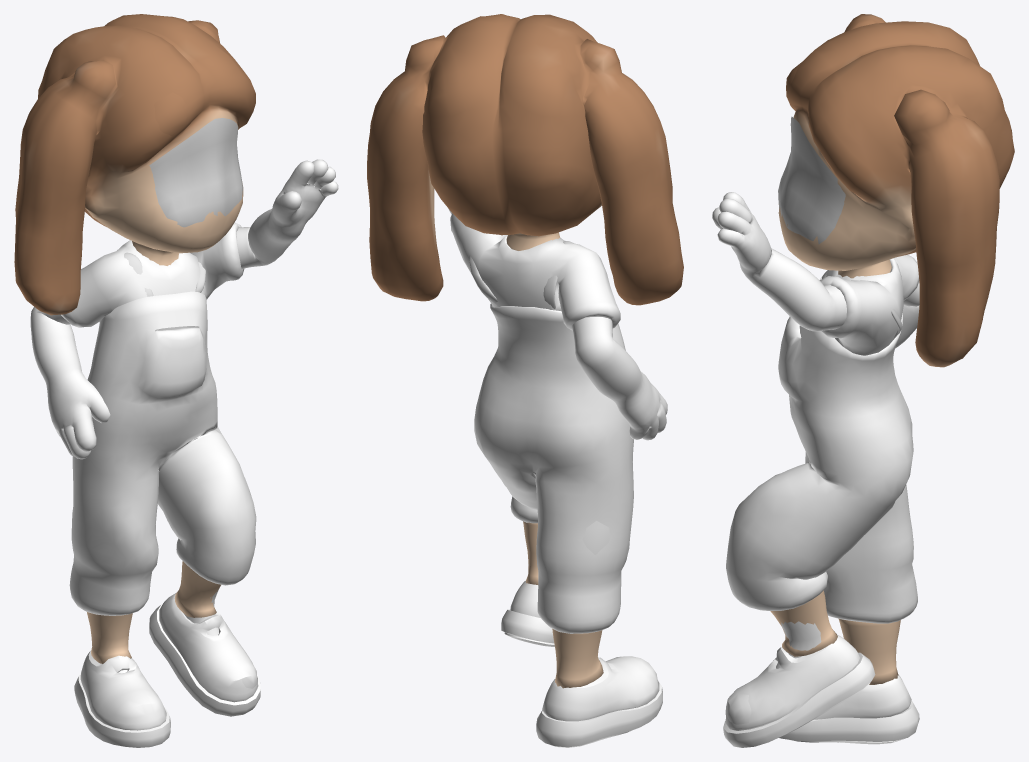
The model's file is Robin Pose.fbx.
The picture shows the model from 3 angles, left to right: view 1: azimuth 30°, elevation 25°; view 2: azimuth 150°, elevation 25°; view 3: azimuth 270°, elevation 25°; orthographic projection. The views are drawn at different scales.
Visible parts, largest first — view 1: Head, Trousers, Shoes, Arms, Shirt, Face; view 2: Head, Trousers, Shoes, Shirt, Arms, Straps; view 3: Head, Trousers, Shoes, Arms, Shirt, Face, Socks.
Boxes of the visible parts, x1=… form: Head: x1=14, y1=14, x2=255, y2=663; Trousers: x1=69, y1=291, x2=256, y2=615; Shoes: x1=74, y1=592, x2=260, y2=747; Arms: x1=30, y1=159, x2=338, y2=459; Shirt: x1=61, y1=222, x2=244, y2=327; Face: x1=149, y1=118, x2=243, y2=227; Head: x1=367, y1=14, x2=683, y2=688; Trousers: x1=474, y1=304, x2=633, y2=633; Shoes: x1=501, y1=581, x2=662, y2=747; Shirt: x1=450, y1=213, x2=620, y2=330; Arms: x1=448, y1=208, x2=667, y2=440; Straps: x1=469, y1=235, x2=574, y2=308; Head: x1=770, y1=14, x2=1014, y2=684; Trousers: x1=726, y1=275, x2=917, y2=623; Shoes: x1=723, y1=634, x2=919, y2=747; Arms: x1=712, y1=192, x2=919, y2=348; Shirt: x1=820, y1=254, x2=919, y2=355; Face: x1=778, y1=116, x2=845, y2=244; Socks: x1=776, y1=621, x2=821, y2=668.
Bounding box in the file's own units: 81.28 × 203 × 77.03.
